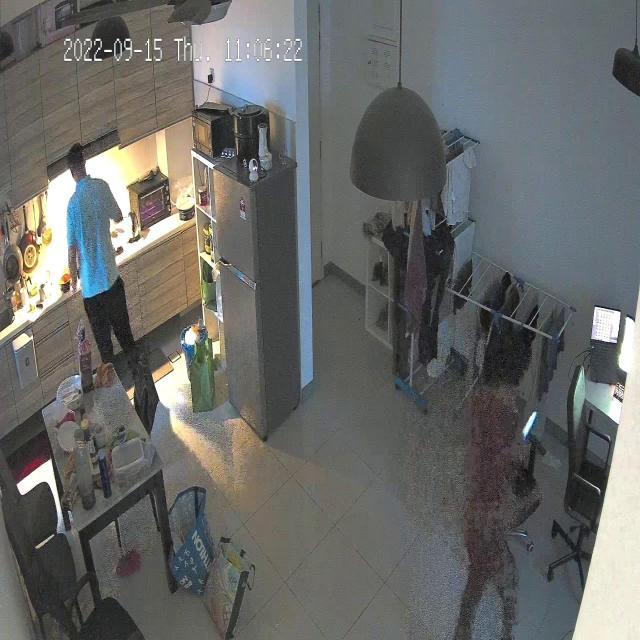Knife: (519, 400, 545, 444)
